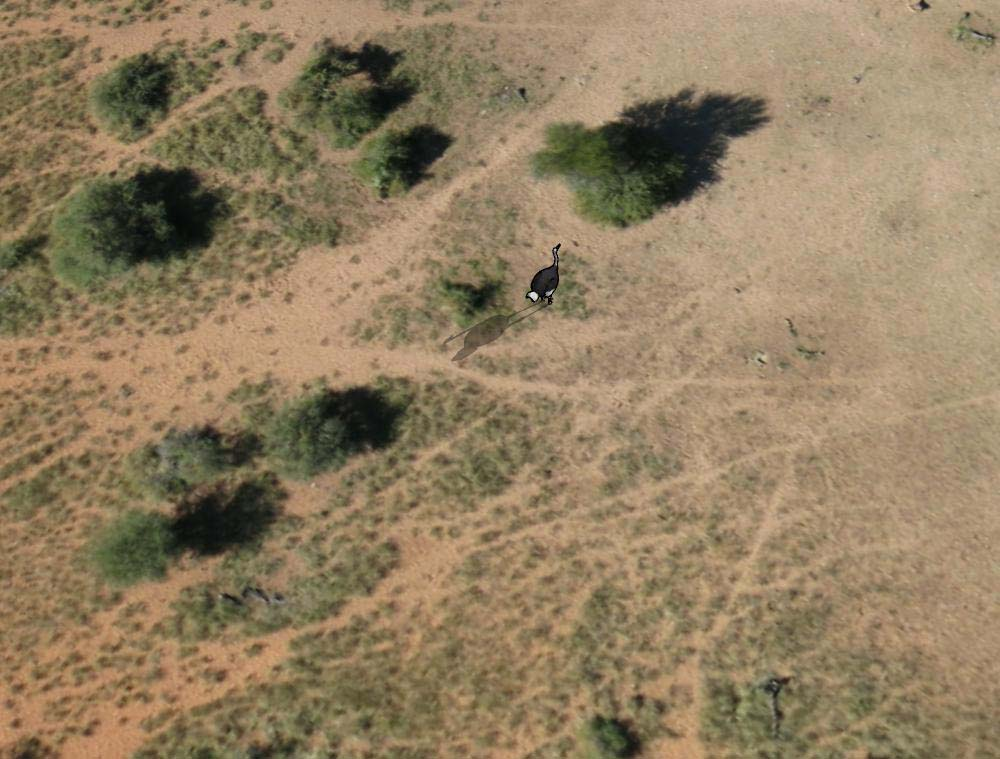springbok: (522, 244, 569, 309)
